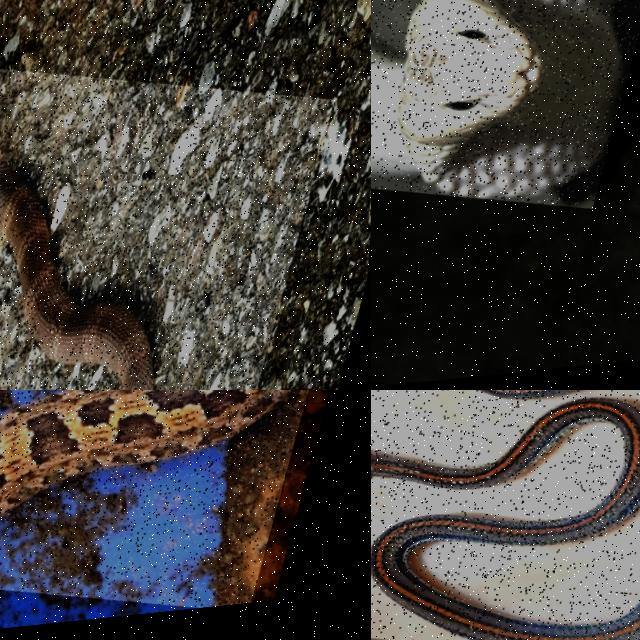Calliophis intestinalis: (371, 398, 639, 639)
Naja kaouthia: (371, 0, 622, 197)
Naja siamensis: (0, 150, 154, 389)
Ovophis monticola: (0, 390, 288, 515)
